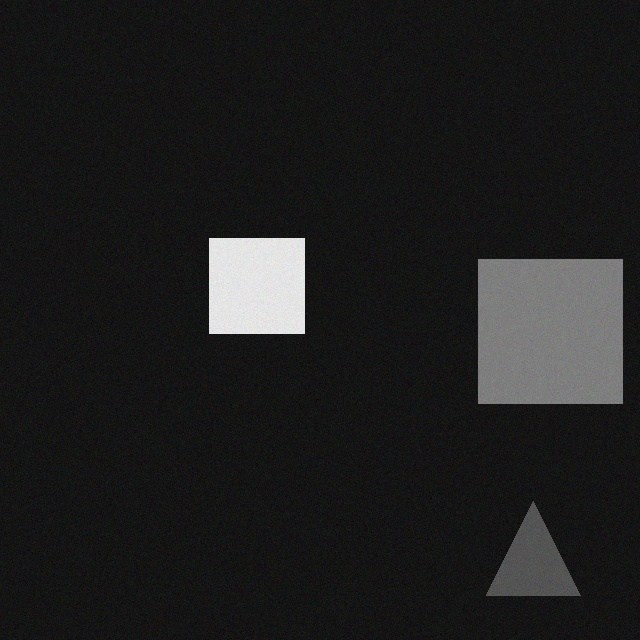square: (479, 272, 623, 416), (210, 251, 305, 346)
triangle: (487, 514, 581, 608)
